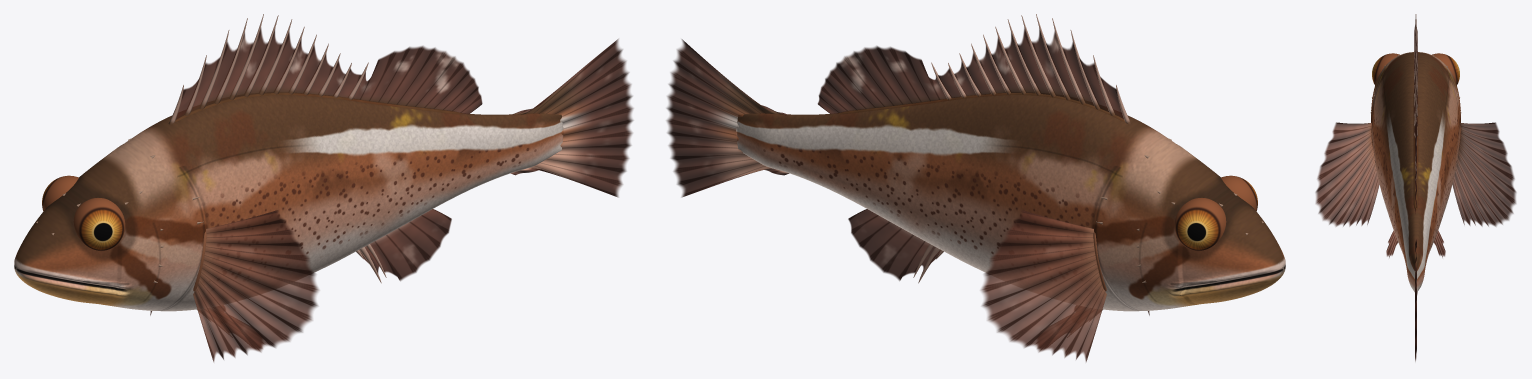
Rendered from copper-rockfish.glb.
The picture shows the model from 3 angles, left to right: view 1: azimuth 30°, elevation 25°; view 2: azimuth 150°, elevation 25°; view 3: azimuth 270°, elevation 25°; orthographic projection. The views are drawn at different scales.
Parts seen in each view (by area): view 1: Body, Fin_Pectoral_L, Fin_Dorsal, Fin_Caudal, Spines, Fin_Anal, Eye_L, Fin_Base_Fillets, Eye_R, Fin_Pelvic_L; view 2: Body, Fin_Pectoral_R, Fin_Dorsal, Fin_Caudal, Spines, Fin_Anal, Eye_R, Fin_Base_Fillets, Eye_L, Fin_Pelvic_R; view 3: Body, Fin_Pectoral_L, Fin_Pectoral_R, Fin_Base_Fillets, Fin_Dorsal, Spines, Eye_L, Eye_R, Fin_Caudal, Fin_Pelvic_L, Fin_Pelvic_R.
Part boxes in pixels (x1,y1,x2,y2): Body: [14, 95, 563, 311]; Fin_Pectoral_L: [193, 210, 319, 361]; Fin_Dorsal: [176, 27, 482, 119]; Fin_Caudal: [510, 39, 633, 197]; Spines: [168, 14, 386, 283]; Fin_Anal: [359, 209, 451, 281]; Eye_L: [73, 198, 125, 250]; Fin_Base_Fillets: [175, 92, 462, 121]; Eye_R: [42, 175, 78, 211]; Fin_Pelvic_L: [205, 308, 263, 348]; Body: [736, 95, 1285, 311]; Fin_Pectoral_R: [980, 210, 1106, 361]; Fin_Dorsal: [817, 27, 1123, 118]; Fin_Caudal: [666, 39, 789, 197]; Spines: [913, 14, 1131, 283]; Fin_Anal: [848, 209, 940, 280]; Eye_R: [1174, 198, 1226, 250]; Fin_Base_Fillets: [837, 93, 1124, 121]; Eye_L: [1221, 175, 1257, 211]; Fin_Pelvic_R: [1036, 308, 1094, 348]; Body: [1371, 52, 1460, 292]; Fin_Pectoral_L: [1315, 122, 1379, 226]; Fin_Pectoral_R: [1452, 122, 1516, 226]; Fin_Base_Fillets: [1413, 75, 1418, 210]; Fin_Dorsal: [1414, 25, 1417, 213]; Spines: [1414, 14, 1417, 136]; Eye_L: [1372, 53, 1399, 85]; Eye_R: [1432, 53, 1459, 85]; Fin_Caudal: [1415, 239, 1416, 361]; Fin_Pelvic_L: [1386, 230, 1397, 257]; Fin_Pelvic_R: [1434, 230, 1445, 257].
Bounding box in the file's own units: 0.422 × 0.2072 × 0.156.
Materials: 10 (9 with a texture image).
